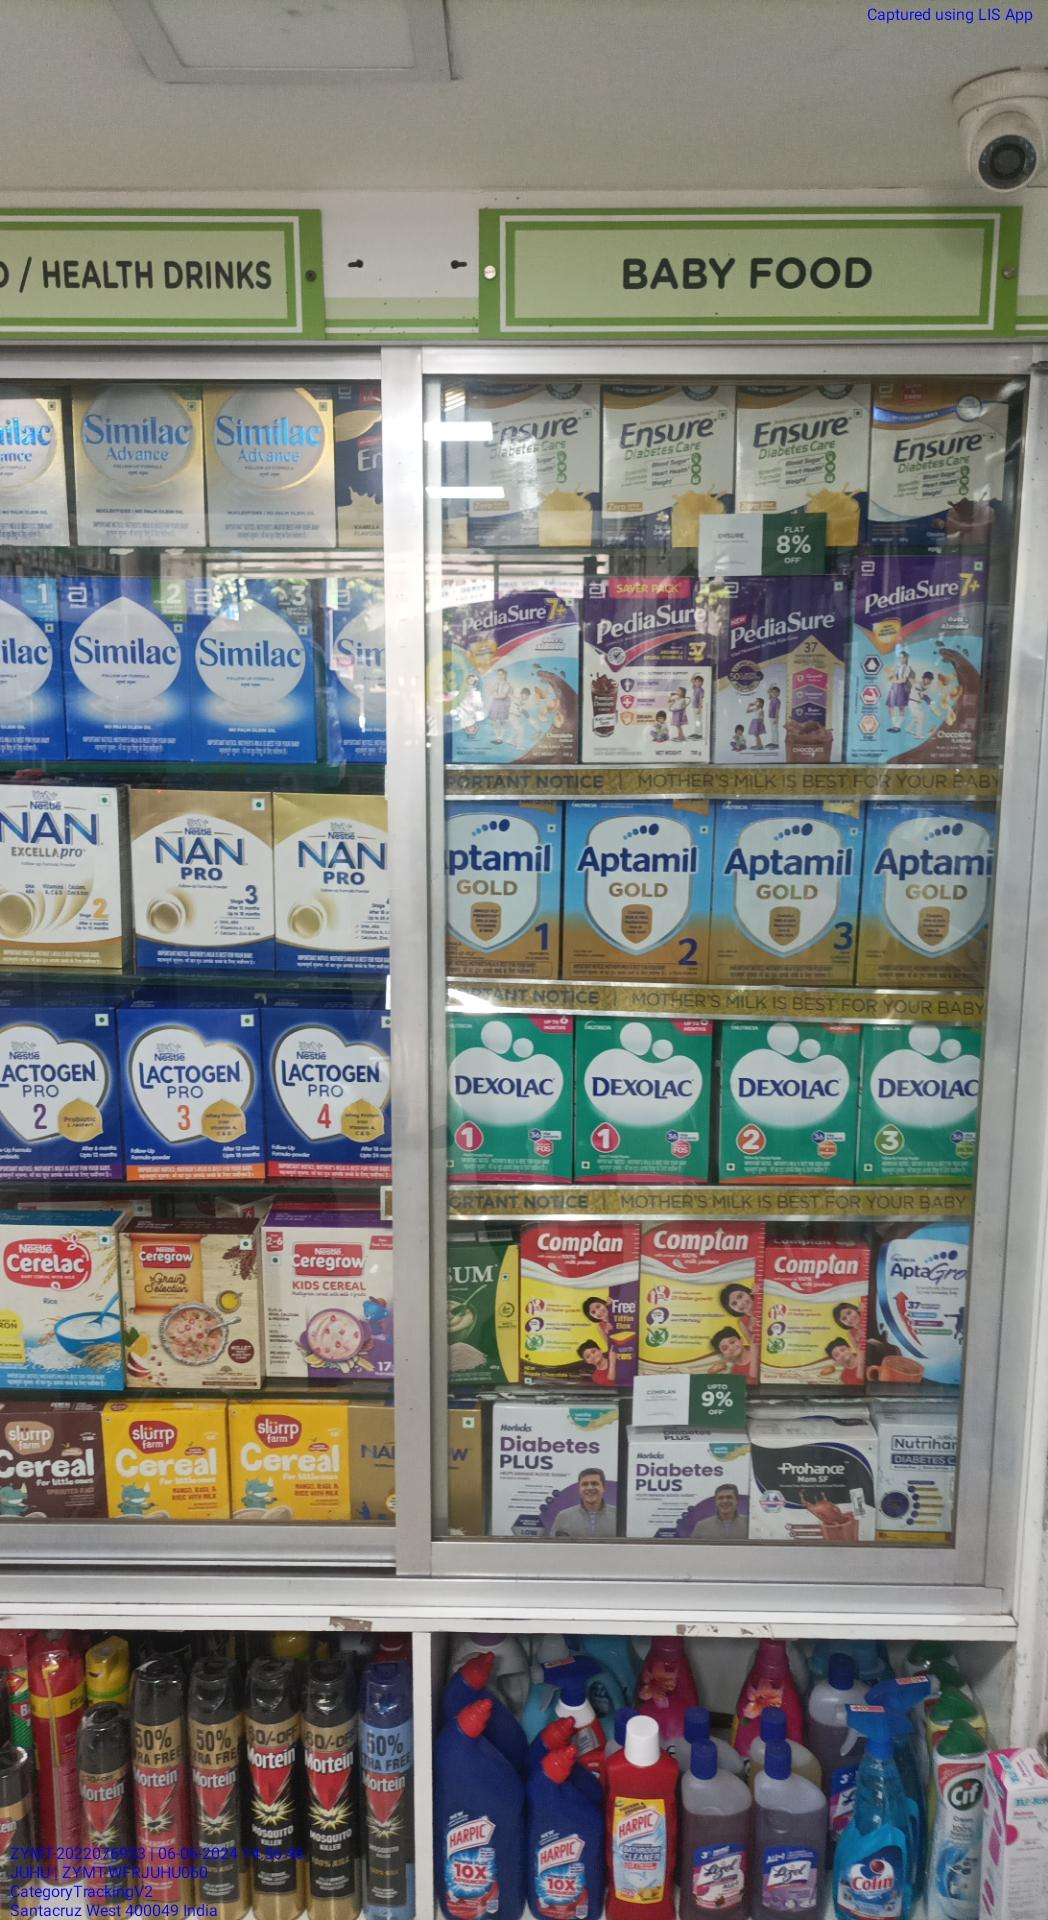COMPLAN_CHOCOLATE_500_GMS_PACK: (521, 1225, 636, 1391)
COMPLAN_KESAR_BADAM_200_GMS_PACK: (761, 1244, 870, 1387)
COMPLAN_KESAR_BADAM_500_GMS_PACK: (640, 1221, 763, 1377)
PEDIASURE_CHOCOLATE_500_G_PACK: (712, 577, 847, 760)
